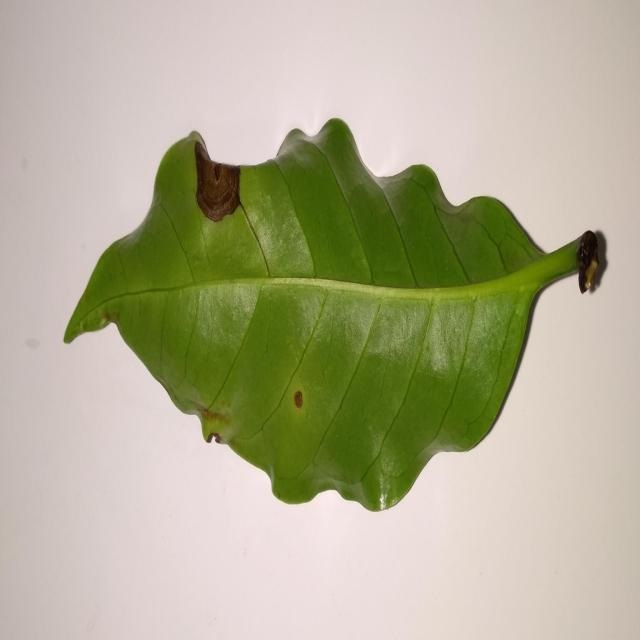phoma: (194, 137, 242, 222)
